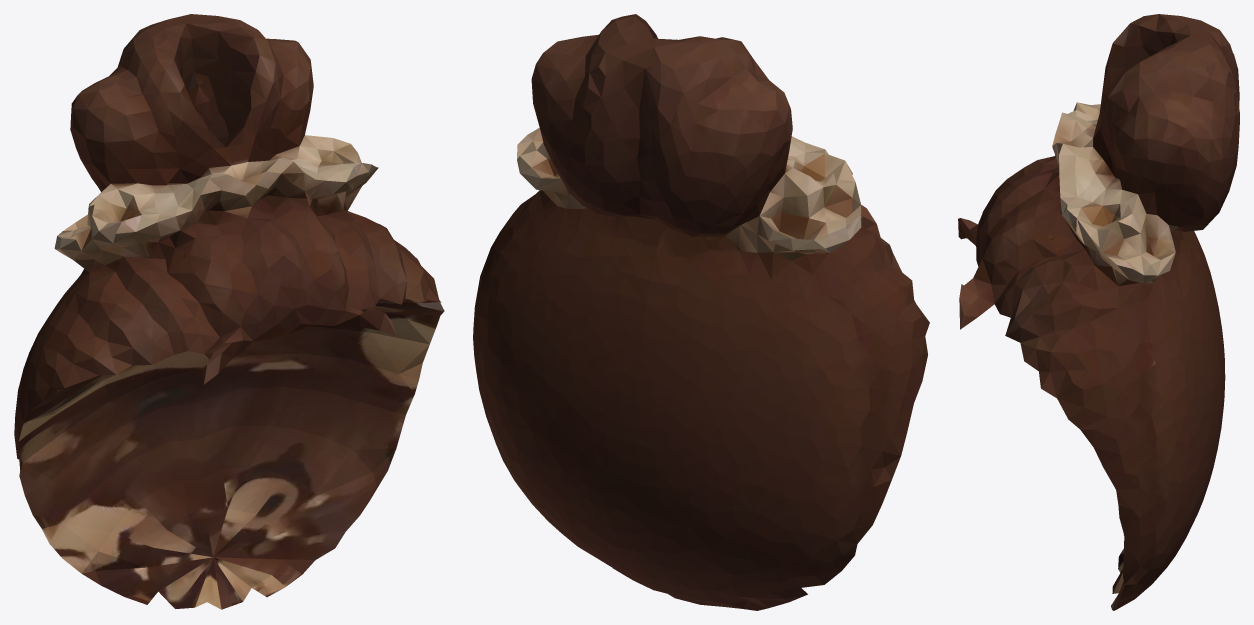
The model's file is hairstyle_011.glb.
3 views of the same model, side by side, from view 1: azimuth 30°, elevation 25°; view 2: azimuth 150°, elevation 25°; view 3: azimuth 270°, elevation 25° (orthographic). The views are drawn at different scales.
Parts seen in each view (by area): view 1: geometry_0_011; view 2: geometry_0_011; view 3: geometry_0_011.
Part boxes in pixels (x1=…): geometry_0_011: x1=14, y1=14, x2=444, y2=609; geometry_0_011: x1=473, y1=14, x2=929, y2=610; geometry_0_011: x1=958, y1=14, x2=1239, y2=610.
Size of the model in its own units: 1.06 by 1.4 by 0.6438.
Materials: 1 (1 with a texture image).
